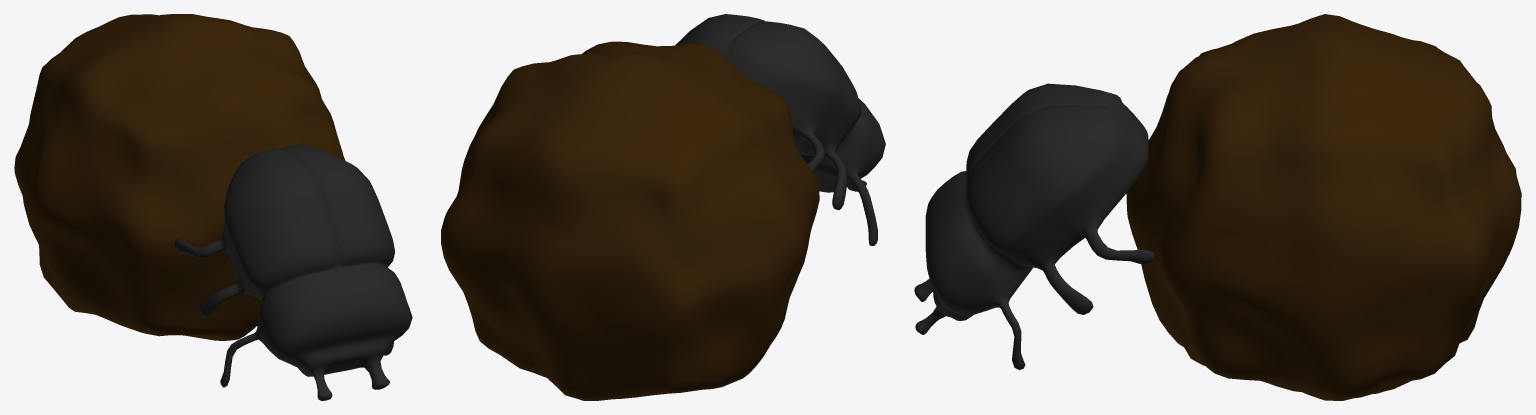
The model's file is BOUSIER.fbx.
3 views of the same model, side by side, from view 1: azimuth 30°, elevation 25°; view 2: azimuth 150°, elevation 25°; view 3: azimuth 270°, elevation 25° (orthographic). The views are drawn at different scales.
Visible parts, largest first — view 1: Cube.001, Cube; view 2: Cube.001, Cube; view 3: Cube.001, Cube.
Boxes of the visible parts, x1=… form: Cube.001: x1=14, y1=14, x2=345, y2=340; Cube: x1=174, y1=144, x2=412, y2=400; Cube.001: x1=441, y1=41, x2=819, y2=400; Cube: x1=675, y1=14, x2=885, y2=245; Cube.001: x1=1126, y1=14, x2=1521, y2=400; Cube: x1=914, y1=83, x2=1155, y2=369.
Bounding box in the file's own units: 610 × 617 × 954.
